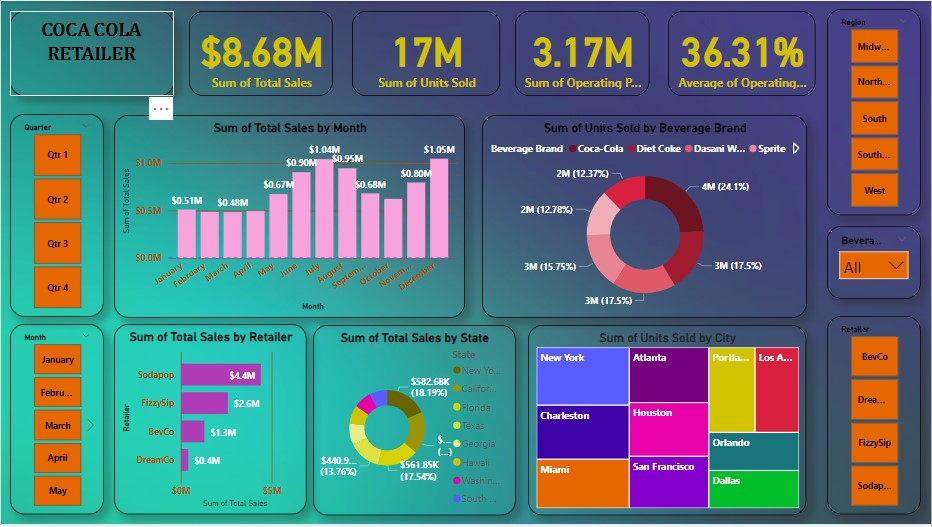

Layout of this report page (visuals, bound fields, positions):
{"tool":"powerbi","page":{"name":"Page 1","canvas":[1280,720],"ordinal":0},"visuals":[{"type":"slicer","fields":{"Values":["Sheet1.Invoice Date.Variation.Date Hierarchy.Month"]},"box":[12.3,444.6,129,262.1],"z":0},{"type":"slicer","fields":{"Values":["Sheet1.Invoice Date.Variation.Date Hierarchy.Quarter"]},"box":[12.3,155.1,129,278.6],"z":1000},{"type":"slicer","fields":{"Values":["Sheet1.Region"]},"box":[1136.2,11,129,284],"z":2000},{"type":"slicer","fields":{"Values":["Sheet1.Retailer"]},"box":[1136.2,433.6,129,273.1],"z":3000},{"type":"slicer","fields":{"Values":["Sheet1.Beverage Brand"]},"box":[1136.2,310.1,129,100.2],"z":4000},{"type":"card","fields":{"Values":["Sum(Sheet1.Total Sales)"]},"box":[259.3,13.7,197.6,116.6],"z":5000},{"type":"card","fields":{"Values":["Sum(Sheet1.Units Sold)"]},"box":[483,13.7,204.5,116.6],"z":6000},{"type":"card","fields":{"Values":["Sum(Sheet1.Operating Profit)"]},"box":[708.1,13.7,185.2,116.6],"z":7000},{"type":"card","fields":{"Values":["Avg(Sheet1.Operating Margin)"]},"box":[918,13.7,203.1,116.6],"z":8000},{"type":"columnChart","fields":{"Category":["Sheet1.Invoice Date.Variation.Date Hierarchy.Month"],"Y":["Sum(Sheet1.Total Sales)"]},"box":[155.1,156.4,483,278.6],"z":9000},{"type":"donutChart","fields":{"Y":["Sum(Sheet1.Units Sold)"],"Category":["Sheet1.Beverage Brand"]},"box":[661.4,156.4,447.3,278.6],"z":10000},{"type":"barChart","fields":{"Y":["Sum(Sheet1.Total Sales)"],"Category":["Sheet1.Retailer"]},"box":[155.1,444.6,264.8,262.1],"z":11000},{"type":"treemap","fields":{"Group":["Sheet1.City"],"Values":["Sum(Sheet1.Units Sold)"]},"box":[725.9,446,382.8,262.1],"z":12000},{"type":"donutChart","fields":{"Y":["Sum(Sheet1.Total Sales)"],"Category":["Sheet1.State"]},"box":[429.5,446,278.6,262.1],"z":13000},{"type":"textbox","box":[12.3,13.7,226.4,116.6],"z":14000}]}

Visuals, with their boxes in screenshot pixels (x1, y1, x2, y2), scaled from the page's 1280x720 canvas onto the 932x527 screenshot:
slicer - Sheet1.Invoice Date.Variation.Date Hierarchy.Month: x1=9 y1=325 x2=103 y2=517
slicer - Sheet1.Invoice Date.Variation.Date Hierarchy.Quarter: x1=9 y1=114 x2=103 y2=317
slicer - Sheet1.Region: x1=827 y1=8 x2=921 y2=216
slicer - Sheet1.Retailer: x1=827 y1=317 x2=921 y2=517
slicer - Sheet1.Beverage Brand: x1=827 y1=227 x2=921 y2=300
card - Sum(Sheet1.Total Sales): x1=189 y1=10 x2=333 y2=95
card - Sum(Sheet1.Units Sold): x1=352 y1=10 x2=501 y2=95
card - Sum(Sheet1.Operating Profit): x1=516 y1=10 x2=650 y2=95
card - Avg(Sheet1.Operating Margin): x1=668 y1=10 x2=816 y2=95
columnChart - Sheet1.Invoice Date.Variation.Date Hierarchy.Month x Sum(Sheet1.Total Sales): x1=113 y1=114 x2=465 y2=318
donutChart - Sum(Sheet1.Units Sold) x Sheet1.Beverage Brand: x1=482 y1=114 x2=807 y2=318
barChart - Sum(Sheet1.Total Sales) x Sheet1.Retailer: x1=113 y1=325 x2=306 y2=517
treemap - Sheet1.City x Sum(Sheet1.Units Sold): x1=529 y1=326 x2=807 y2=518
donutChart - Sum(Sheet1.Total Sales) x Sheet1.State: x1=313 y1=326 x2=516 y2=518
textbox: x1=9 y1=10 x2=174 y2=95
